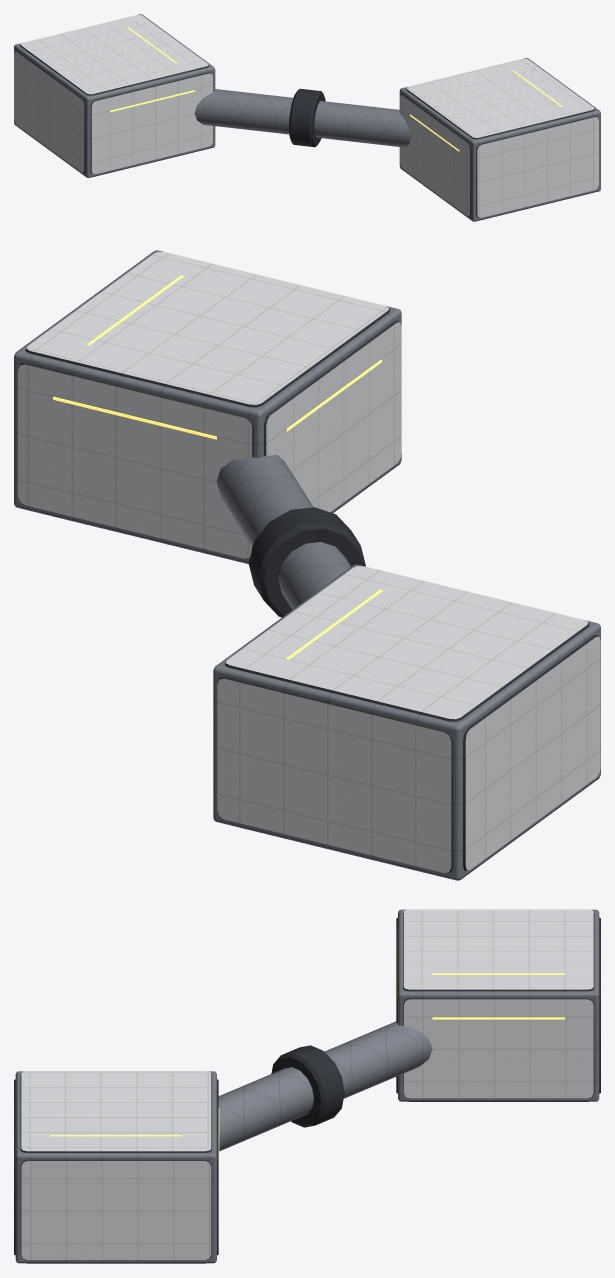
Rendered from R4C_ROD_DIAG_2D_SHORT.glb.
The picture shows the model from 3 angles, top to bottom: view 1: azimuth 30°, elevation 25°; view 2: azimuth 150°, elevation 25°; view 3: azimuth 270°, elevation 25°; orthographic projection. The views are drawn at different scales.
Parts seen in each view (by area): view 1: R4C_ROD_DIAG_2D_SHORT; view 2: R4C_ROD_DIAG_2D_SHORT; view 3: R4C_ROD_DIAG_2D_SHORT.
Boxes of the visible parts, x1,y1,x2,y2 form: R4C_ROD_DIAG_2D_SHORT: [14, 14, 600, 221]; R4C_ROD_DIAG_2D_SHORT: [14, 250, 600, 880]; R4C_ROD_DIAG_2D_SHORT: [14, 909, 600, 1263].
Size of the model in its own units: 1.07 by 0.2284 by 1.07.
4 materials, 3 textured.
